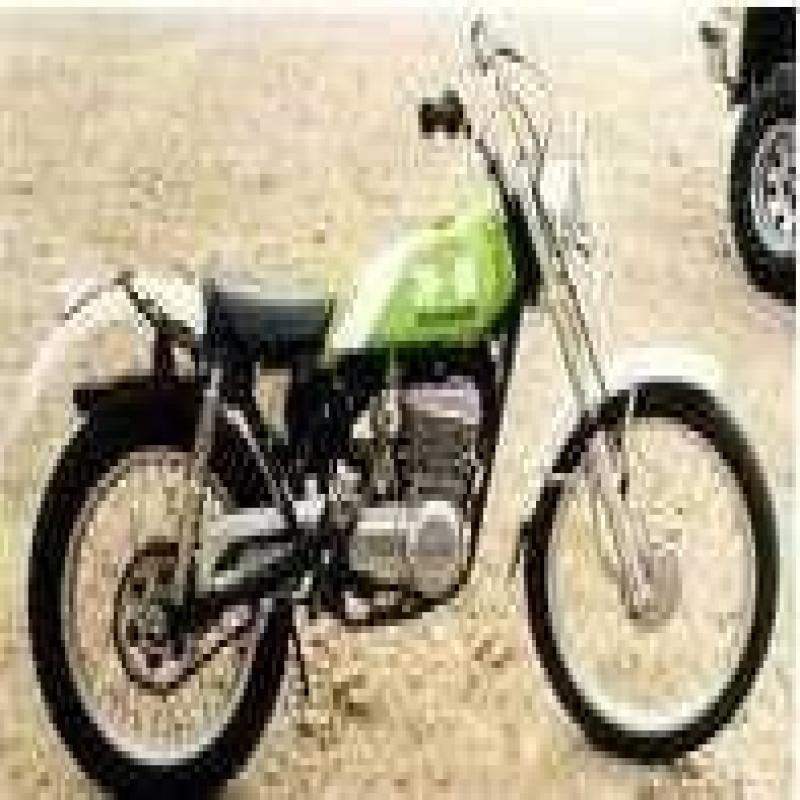bike: (16, 36, 782, 756)
